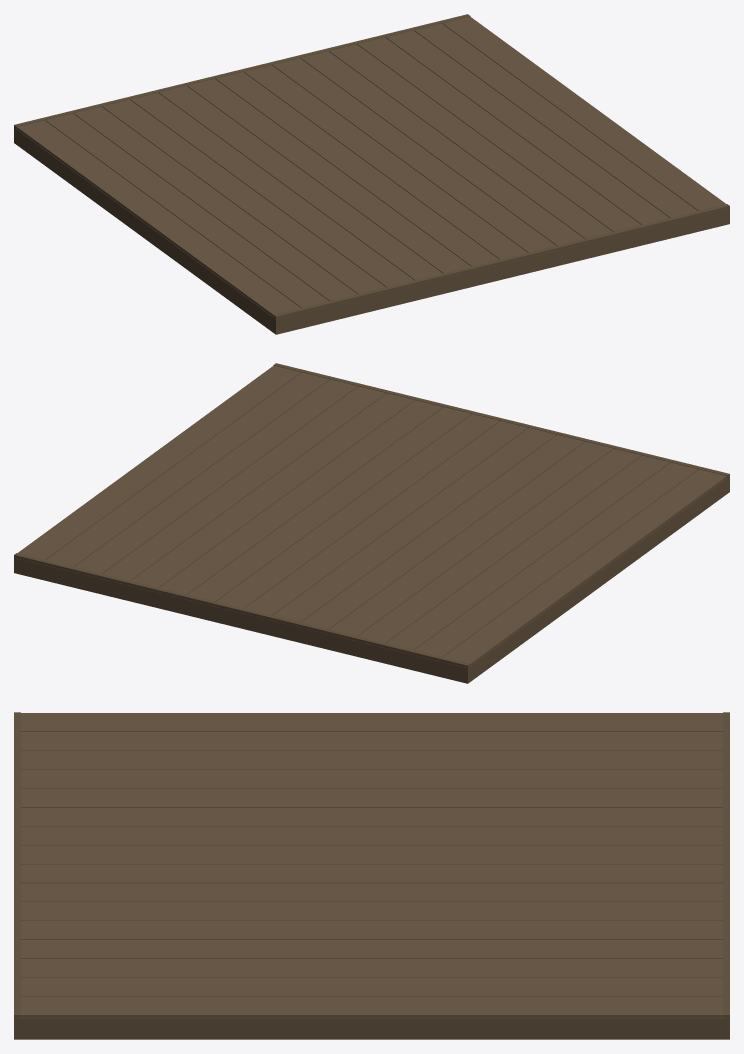
Rendered from floor_module.glb.
The picture shows the model from 3 angles, top to bottom: view 1: azimuth 30°, elevation 25°; view 2: azimuth 150°, elevation 25°; view 3: azimuth 270°, elevation 25°; orthographic projection. The views are drawn at different scales.
Parts seen in each view (by area): view 1: Floor_Module; view 2: Floor_Module; view 3: Floor_Module.
Part boxes in pixels (x1,y1,x2,y2): Floor_Module: [14, 14, 729, 334]; Floor_Module: [14, 363, 729, 683]; Floor_Module: [14, 712, 729, 1039].
Bounding box in the file's own units: 4 × 0.153 × 4.
